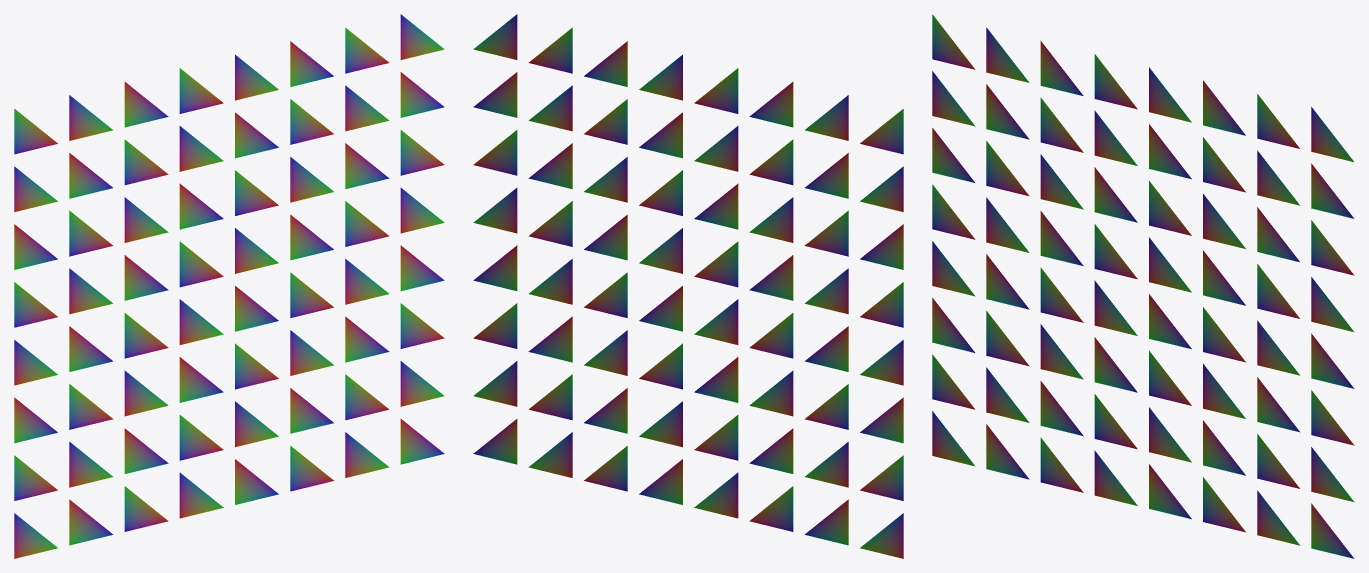
Rendered from provoking_scene.gltf.
The picture shows the model from 3 angles, left to right: view 1: azimuth 30°, elevation 25°; view 2: azimuth 150°, elevation 25°; view 3: azimuth 330°, elevation 25°; orthographic projection.
Bounding box in the file's own units: 1.83 × 1.83 × 0.
